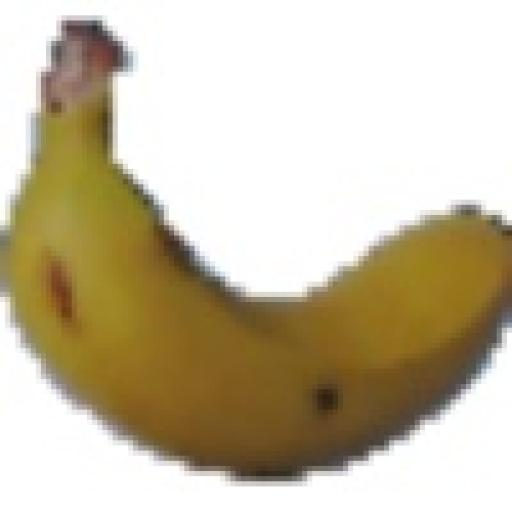banana: (11, 82, 511, 471), (246, 210, 511, 450)
